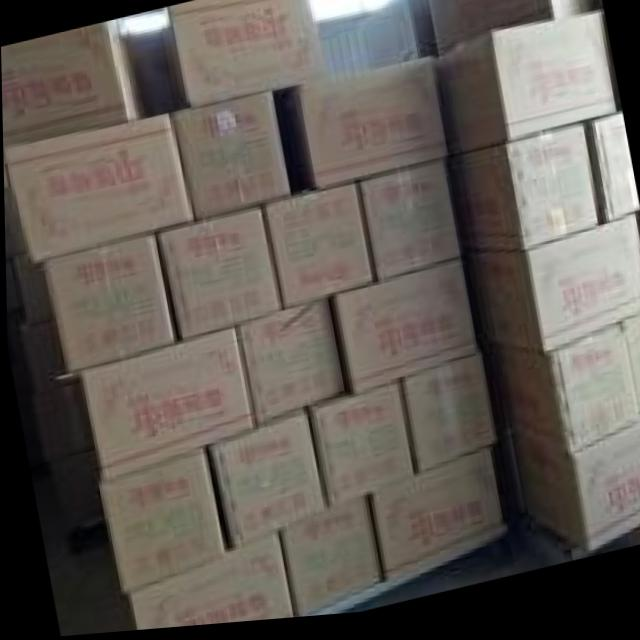box: (3, 115, 193, 265), (79, 328, 254, 482), (433, 22, 616, 162), (470, 225, 640, 363), (286, 63, 448, 196), (326, 264, 476, 401), (486, 332, 640, 465), (96, 448, 225, 597), (158, 0, 328, 112), (42, 234, 176, 376), (456, 132, 600, 262), (508, 424, 640, 563), (367, 453, 502, 588), (1, 19, 142, 147), (156, 208, 281, 344), (125, 533, 293, 632), (206, 414, 325, 551), (174, 96, 290, 226), (259, 186, 374, 315), (304, 387, 414, 513), (235, 302, 343, 430), (275, 497, 383, 622), (356, 169, 459, 286), (398, 360, 495, 478), (427, 0, 595, 61), (585, 124, 639, 232), (364, 0, 438, 76), (30, 381, 93, 460), (18, 322, 81, 395), (44, 449, 102, 527), (11, 251, 53, 326), (618, 325, 640, 425)
